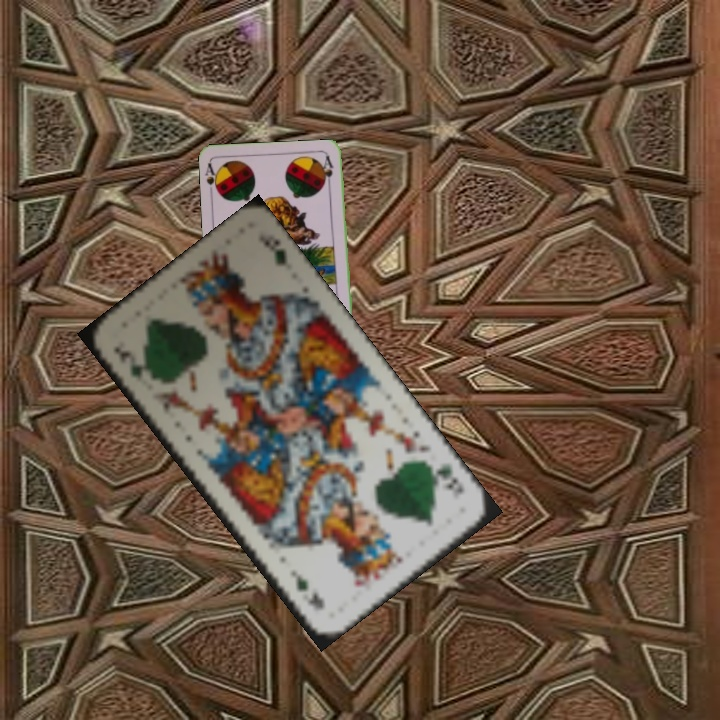GK: (109, 340, 154, 383), (424, 460, 467, 501)
SA: (202, 159, 223, 199)
